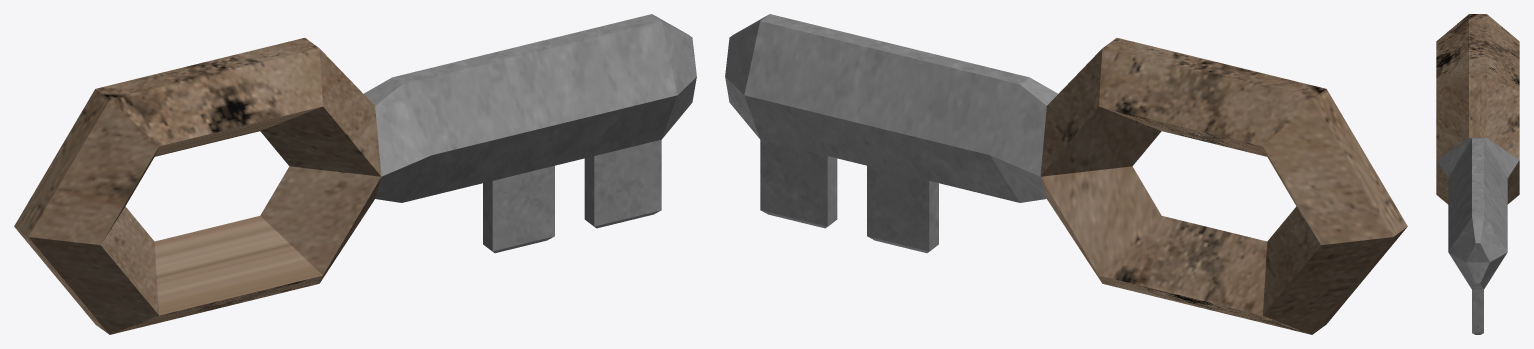
Rendered from Key.fbx.
The picture shows the model from 3 angles, left to right: view 1: azimuth 30°, elevation 25°; view 2: azimuth 150°, elevation 25°; view 3: azimuth 270°, elevation 25°; orthographic projection. The views are drawn at different scales.
Visible parts, largest first — view 1: Key; view 2: Key; view 3: Key.
Boxes of the visible parts, left/top/right/bottom form: Key: left=14, top=14, right=696, bottom=334; Key: left=725, top=14, right=1407, bottom=334; Key: left=1436, top=14, right=1519, bottom=334.
Size of the model in its own units: 5.73 by 2.07 by 1.
2 materials, 2 textured.
